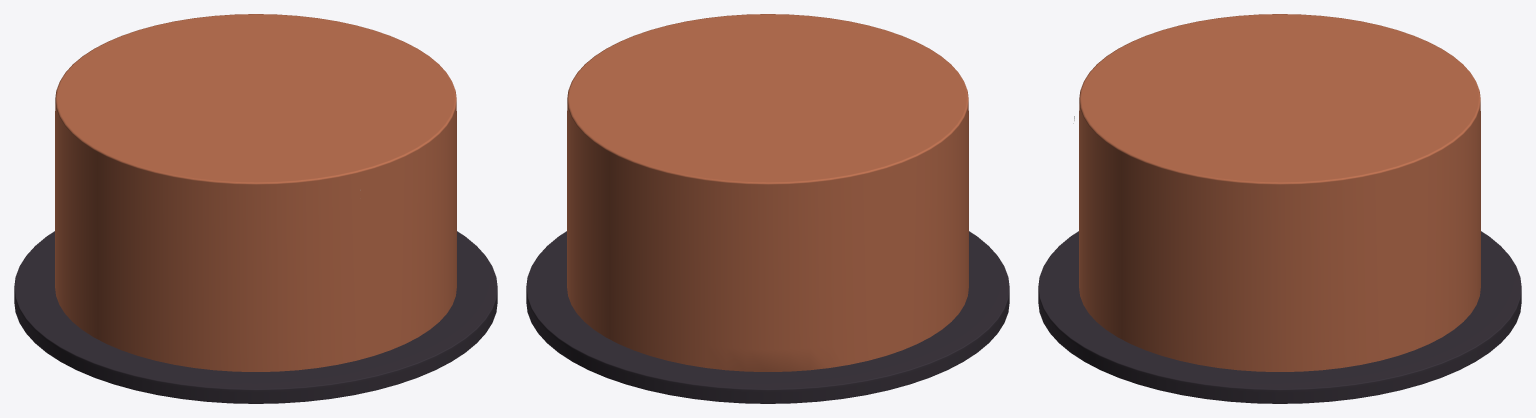
File: 1773122167_cus.glb
3 views of the same model, side by side, from view 1: azimuth 30°, elevation 25°; view 2: azimuth 150°, elevation 25°; view 3: azimuth 270°, elevation 25° (orthographic).
Visible parts, largest first — view 1: pCylinder5, pCylinder29_1004_0; view 2: pCylinder5, pCylinder29_1004_0; view 3: pCylinder5, pCylinder29_1004_0.
Part boxes in pixels (x1,y1,x2,y2): pCylinder5: (55,14,456,371); pCylinder29_1004_0: (14,231,497,403); pCylinder5: (567,14,968,371); pCylinder29_1004_0: (526,231,1009,403); pCylinder5: (1079,14,1480,371); pCylinder29_1004_0: (1038,231,1521,403).
Bounding box in the file's own units: 0.024 × 0.0111 × 0.024.
3 materials, 1 textured.
